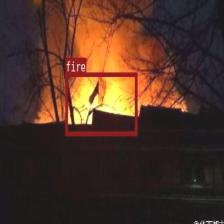fire: (65, 72, 137, 134)
